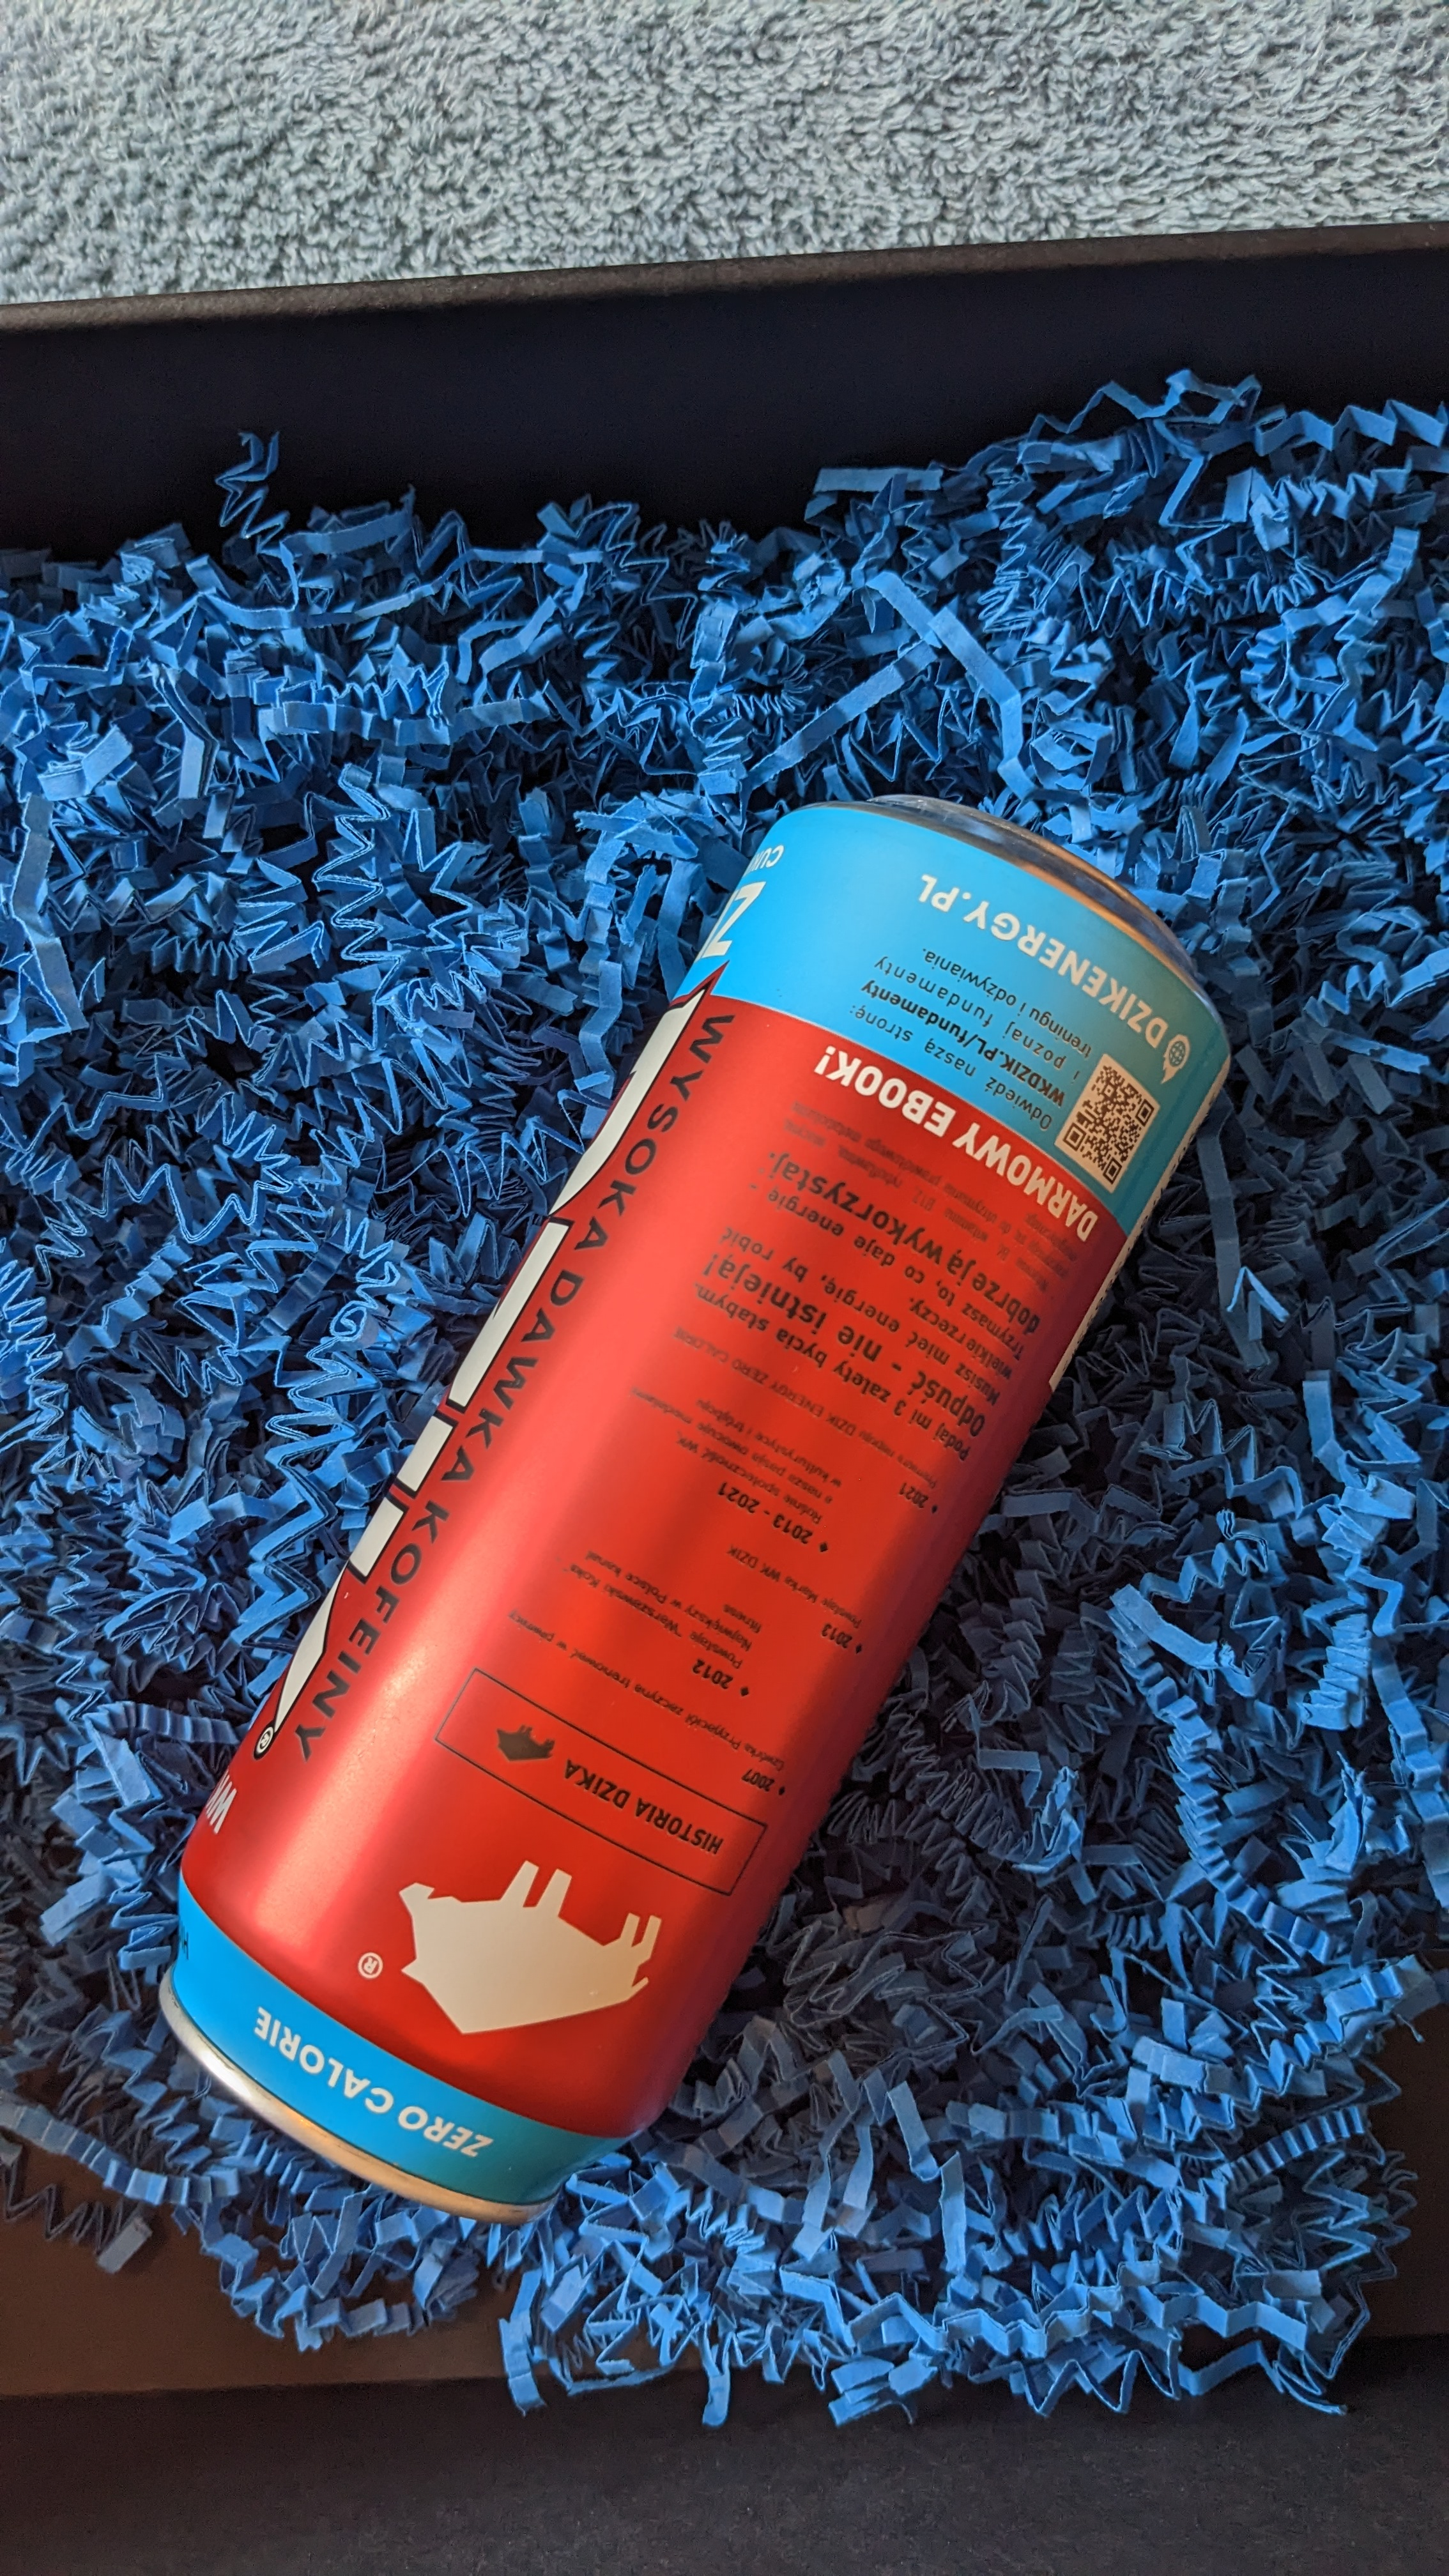dzik: (140, 816, 1251, 2252)
